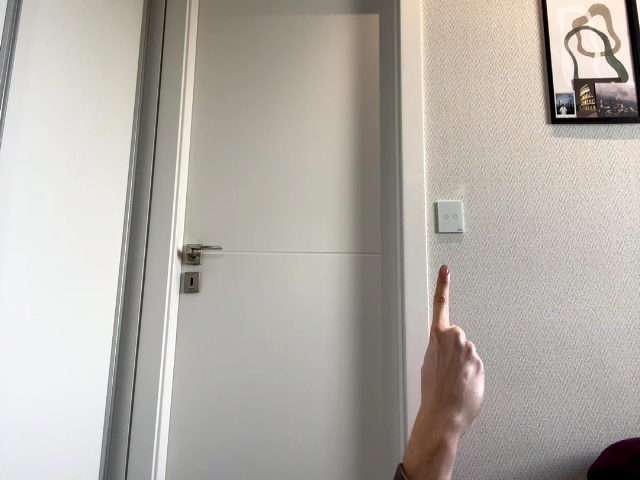D: (421, 265, 485, 439)
